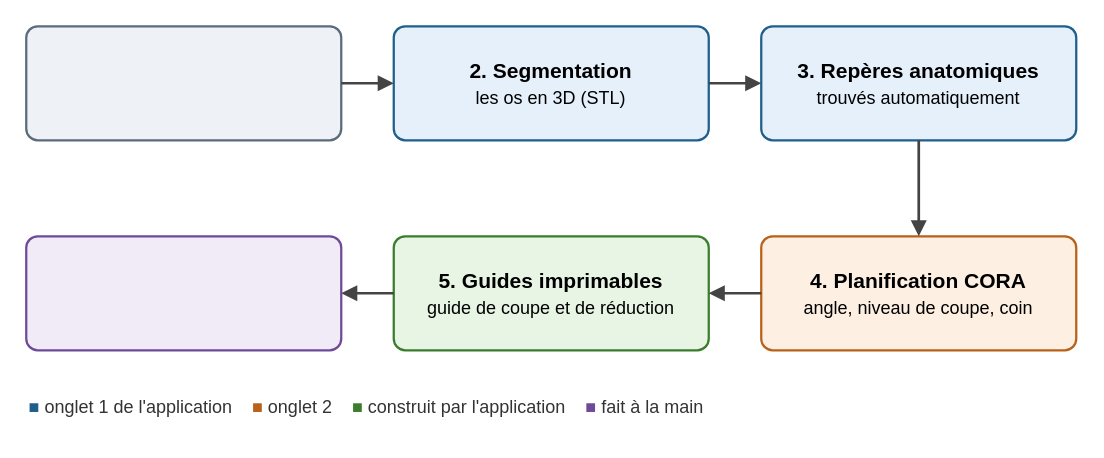
Image size: 1104x458. Some labels were removed from this diagram. Each missing label, with the box of its shape:
1. Scanner (CT) images DICOM du membre: (24, 24, 342, 141)
6. Impression, chirurgie en dehors du logiciel: (24, 234, 342, 351)
